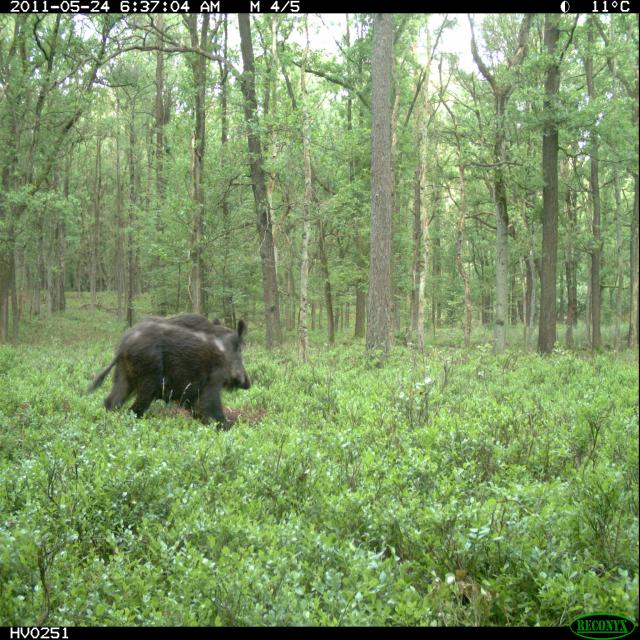boar: (87, 284, 266, 458)
